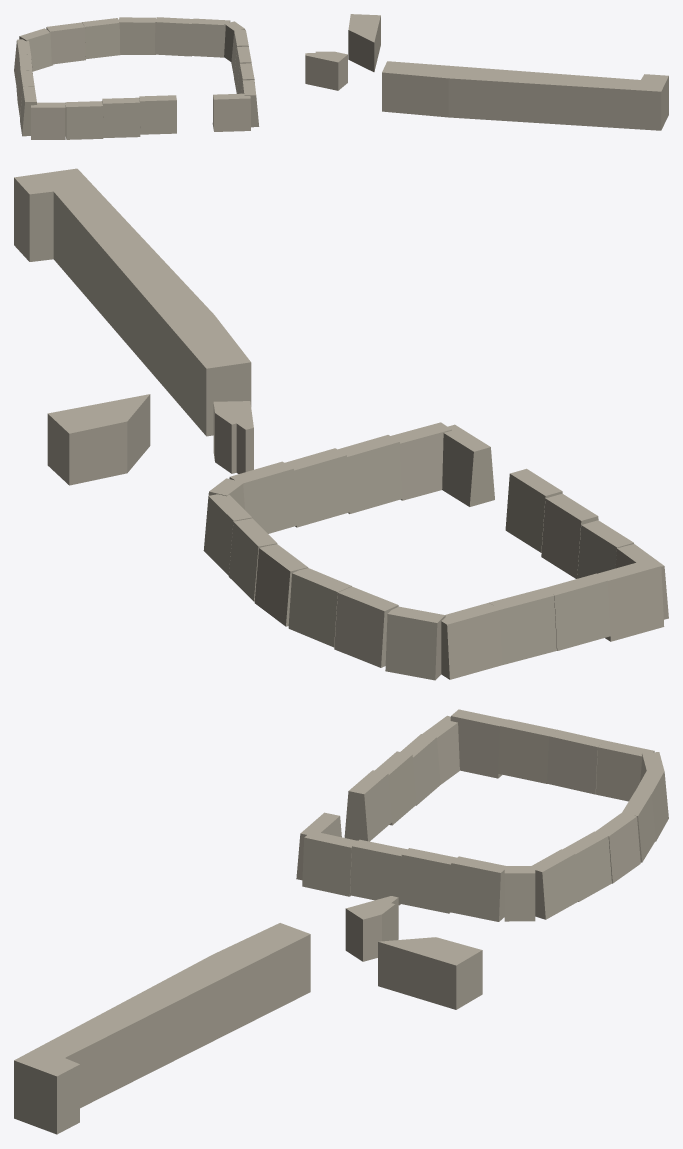
Rendered from kalkara_66_22_far.glb.
The picture shows the model from 3 angles, top to bottom: view 1: azimuth 30°, elevation 25°; view 2: azimuth 150°, elevation 25°; view 3: azimuth 270°, elevation 25°; orthographic projection. The views are drawn at different scales.
Parts seen in each view (by area): view 1: geometry_0; view 2: geometry_0; view 3: geometry_0.
Part boxes in pixels (x1,y1,x2,y2): geometry_0: [14, 14, 668, 139]; geometry_0: [14, 168, 668, 680]; geometry_0: [14, 709, 668, 1134].
Bounding box in the file's own units: 200 × 15.84 × 149.
